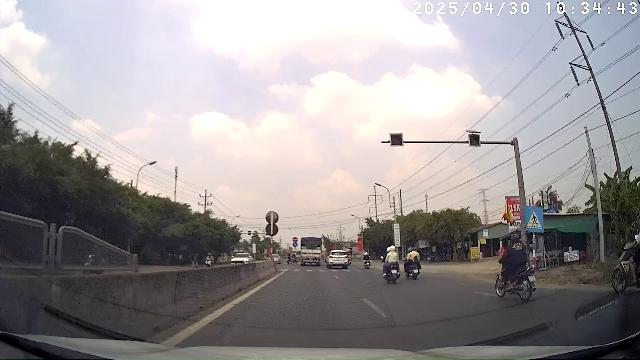423a-duong-nguoi-di-bo-sang-ngang-1: (524, 206, 544, 232)
